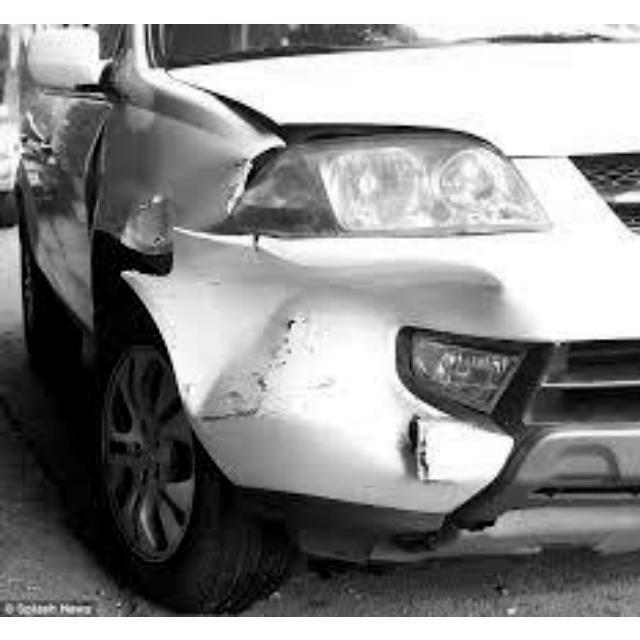fender-dent: (85, 75, 285, 253)
front-bumper-dent: (176, 251, 599, 555)
